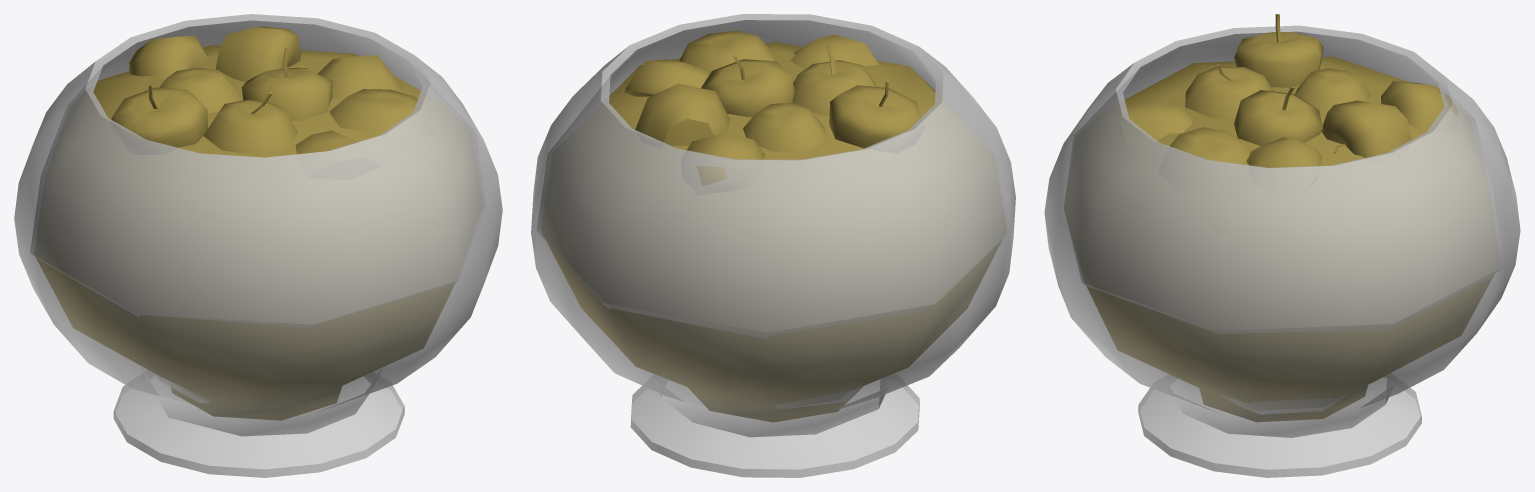
File: ZSP0404.FBX
3 renders of one model, left to right at view 1: azimuth 30°, elevation 25°; view 2: azimuth 150°, elevation 25°; view 3: azimuth 270°, elevation 25°, orthographic. The views are drawn at different scales.
Parts seen in each view (by area): view 1: ZSP0404; view 2: ZSP0404; view 3: ZSP0404.
Boxes of the visible parts, left/top/right/bottom form: ZSP0404: left=14, top=14, right=502, bottom=477; ZSP0404: left=531, top=14, right=1015, bottom=477; ZSP0404: left=1044, top=14, right=1520, bottom=477.
Size of the model in its own units: 44.43 by 44.43 by 36.21.
